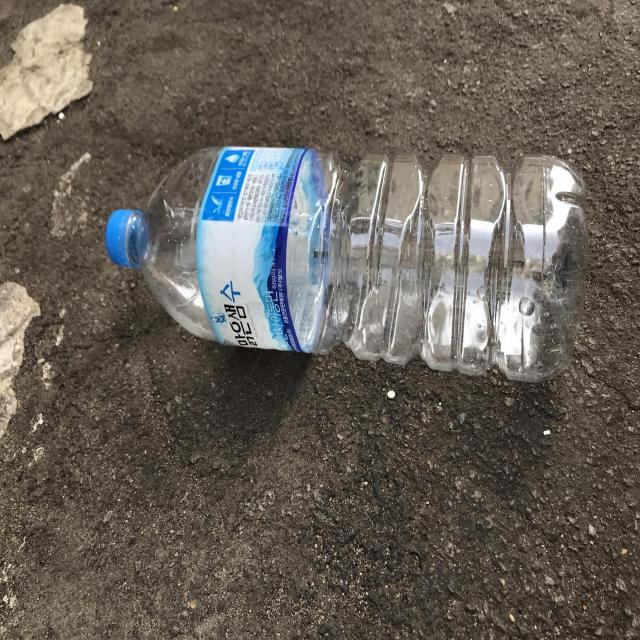plastic: (105, 146, 590, 382)
